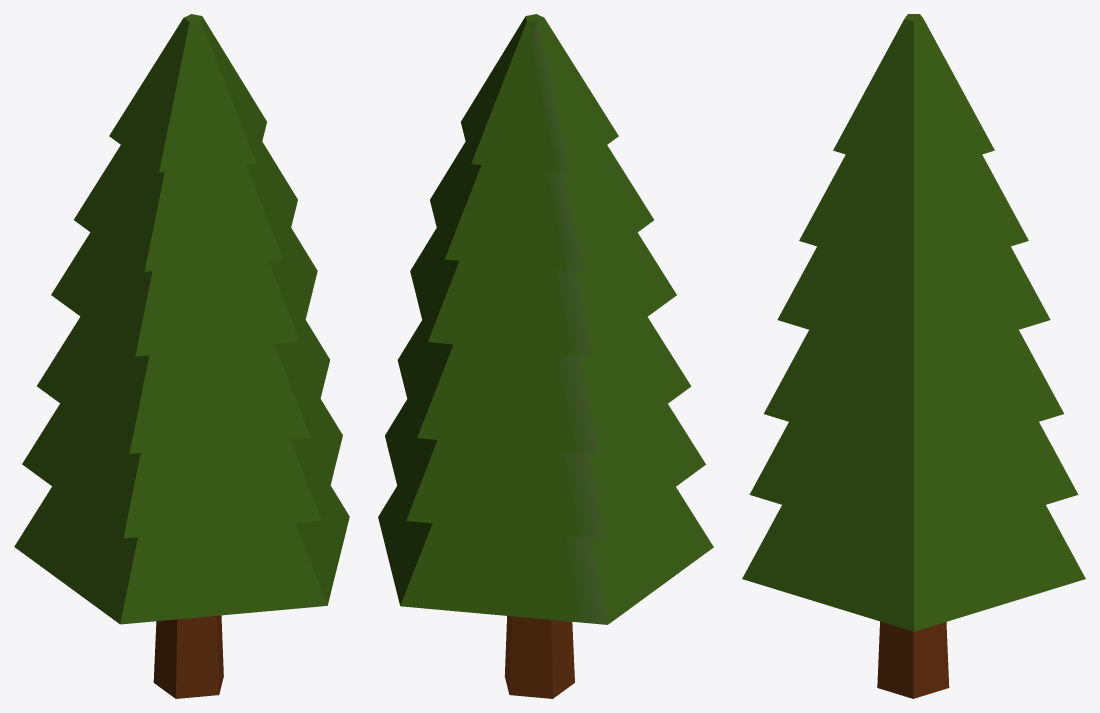
File: Conifer_01_vf.FBX
The picture shows the model from 3 angles, left to right: view 1: azimuth 30°, elevation 25°; view 2: azimuth 150°, elevation 25°; view 3: azimuth 270°, elevation 25°; orthographic projection.
Parts seen in each view (by area): view 1: Cone004; view 2: Cone004; view 3: Cone004.
Boxes of the visible parts, bbox=[...] form: Cone004: bbox=[14, 14, 349, 698]; Cone004: bbox=[378, 14, 713, 698]; Cone004: bbox=[742, 14, 1085, 698].
Bounding box in the file's own units: 176 × 395 × 185.
1 material, 1 textured.
